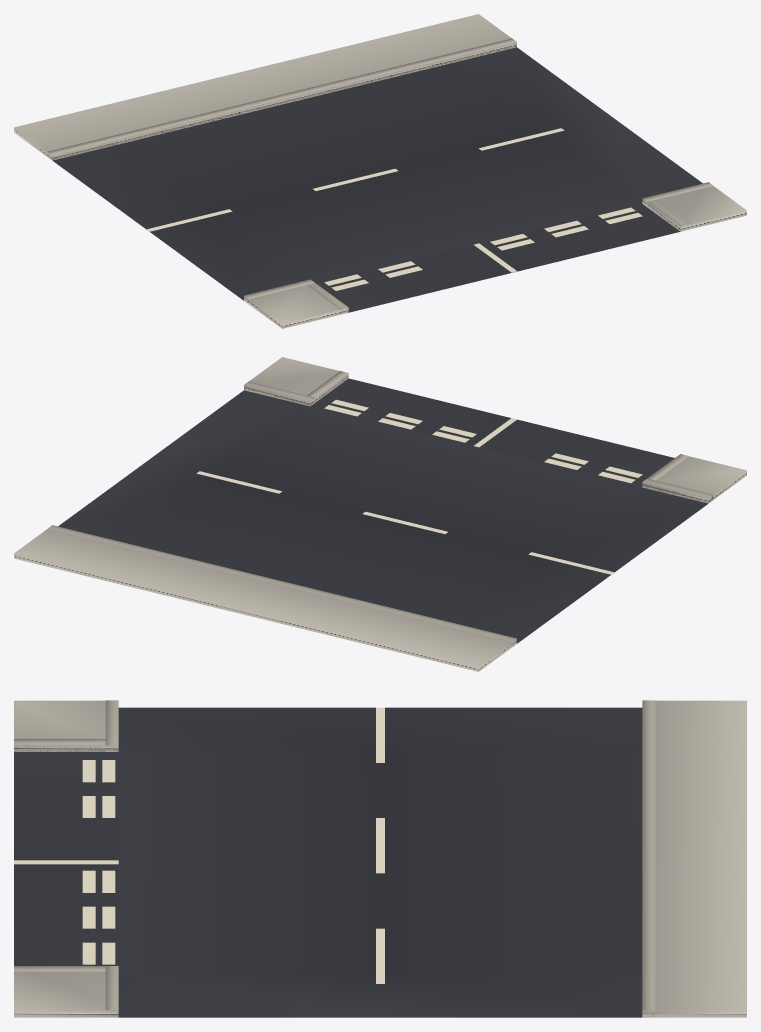
Rendered from road_junction_T.glb.
3 views of the same model, one above another, from view 1: azimuth 30°, elevation 25°; view 2: azimuth 150°, elevation 25°; view 3: azimuth 270°, elevation 25° (orthographic). The views are drawn at different scales.
Parts seen in each view (by area): view 1: Road; view 2: Road; view 3: Road.
Boxes of the visible parts, left/top/right/bottom form: Road: left=14, top=14, right=746, bottom=328; Road: left=14, top=357, right=746, bottom=671; Road: left=14, top=700, right=746, bottom=1017.
Bounding box in the file's own units: 11.2 × 0.125 × 11.2.
Materials: 1 (1 with a texture image).
